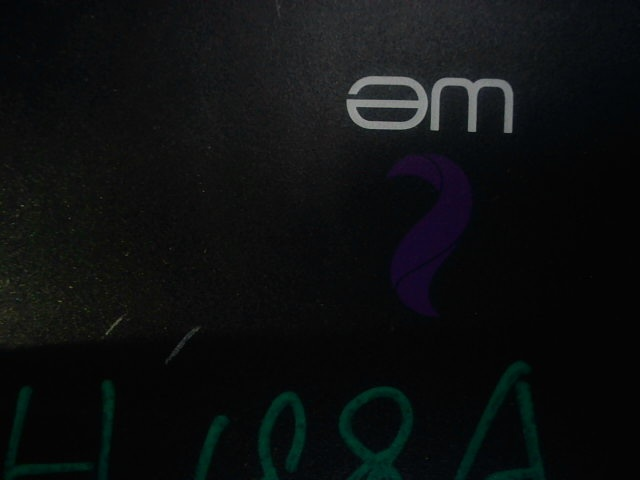AT_We: (343, 77, 519, 322)
